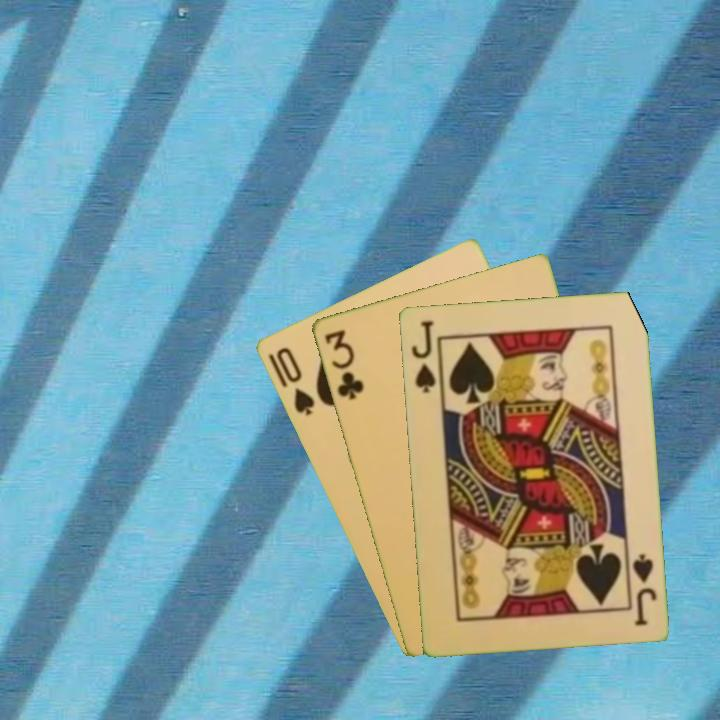10s: (272, 343, 317, 419)
3c: (320, 325, 366, 403)
Js: (407, 316, 438, 396), (628, 549, 659, 628)
